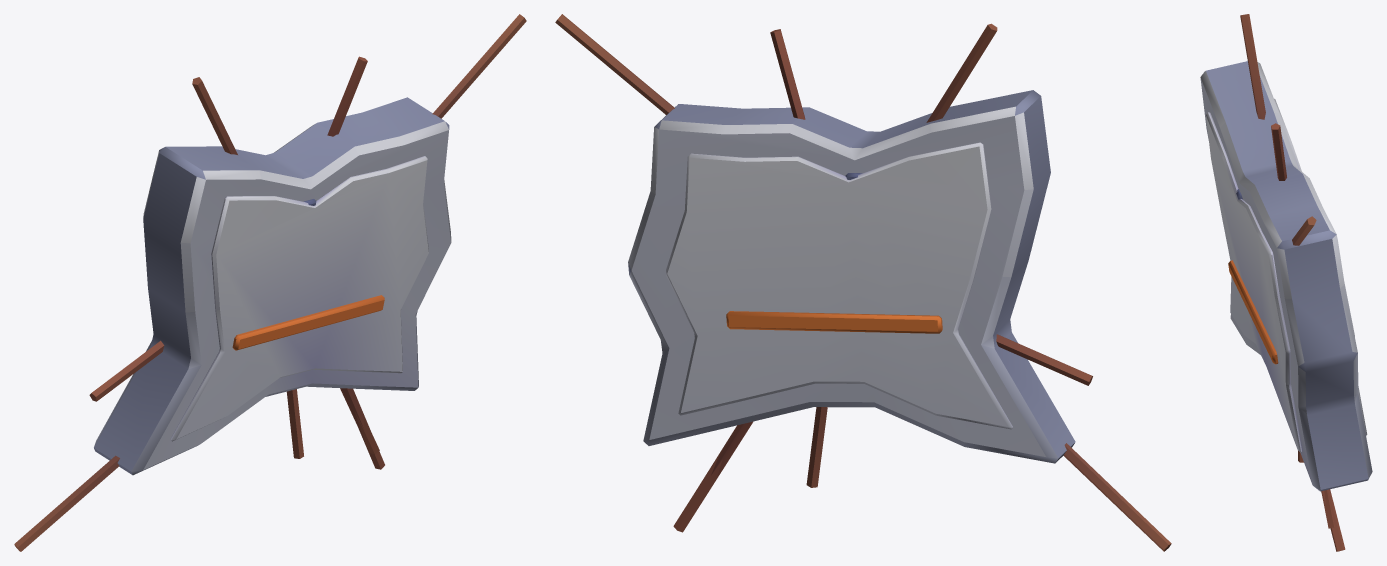
The model's file is hub_ruin_debris_a.glb.
The picture shows the model from 3 angles, left to right: view 1: azimuth 30°, elevation 25°; view 2: azimuth 150°, elevation 25°; view 3: azimuth 270°, elevation 25°; orthographic projection. The views are drawn at different scales.
Parts seen in each view (by area): view 1: hub_ruin_debris_a; view 2: hub_ruin_debris_a; view 3: hub_ruin_debris_a.
Part boxes in pixels (x1=…): hub_ruin_debris_a: x1=14, y1=14, x2=526, y2=551; hub_ruin_debris_a: x1=555, y1=14, x2=1171, y2=551; hub_ruin_debris_a: x1=1200, y1=14, x2=1372, y2=551.
Bounding box in the file's own units: 4.49 × 3.88 × 1.39.
